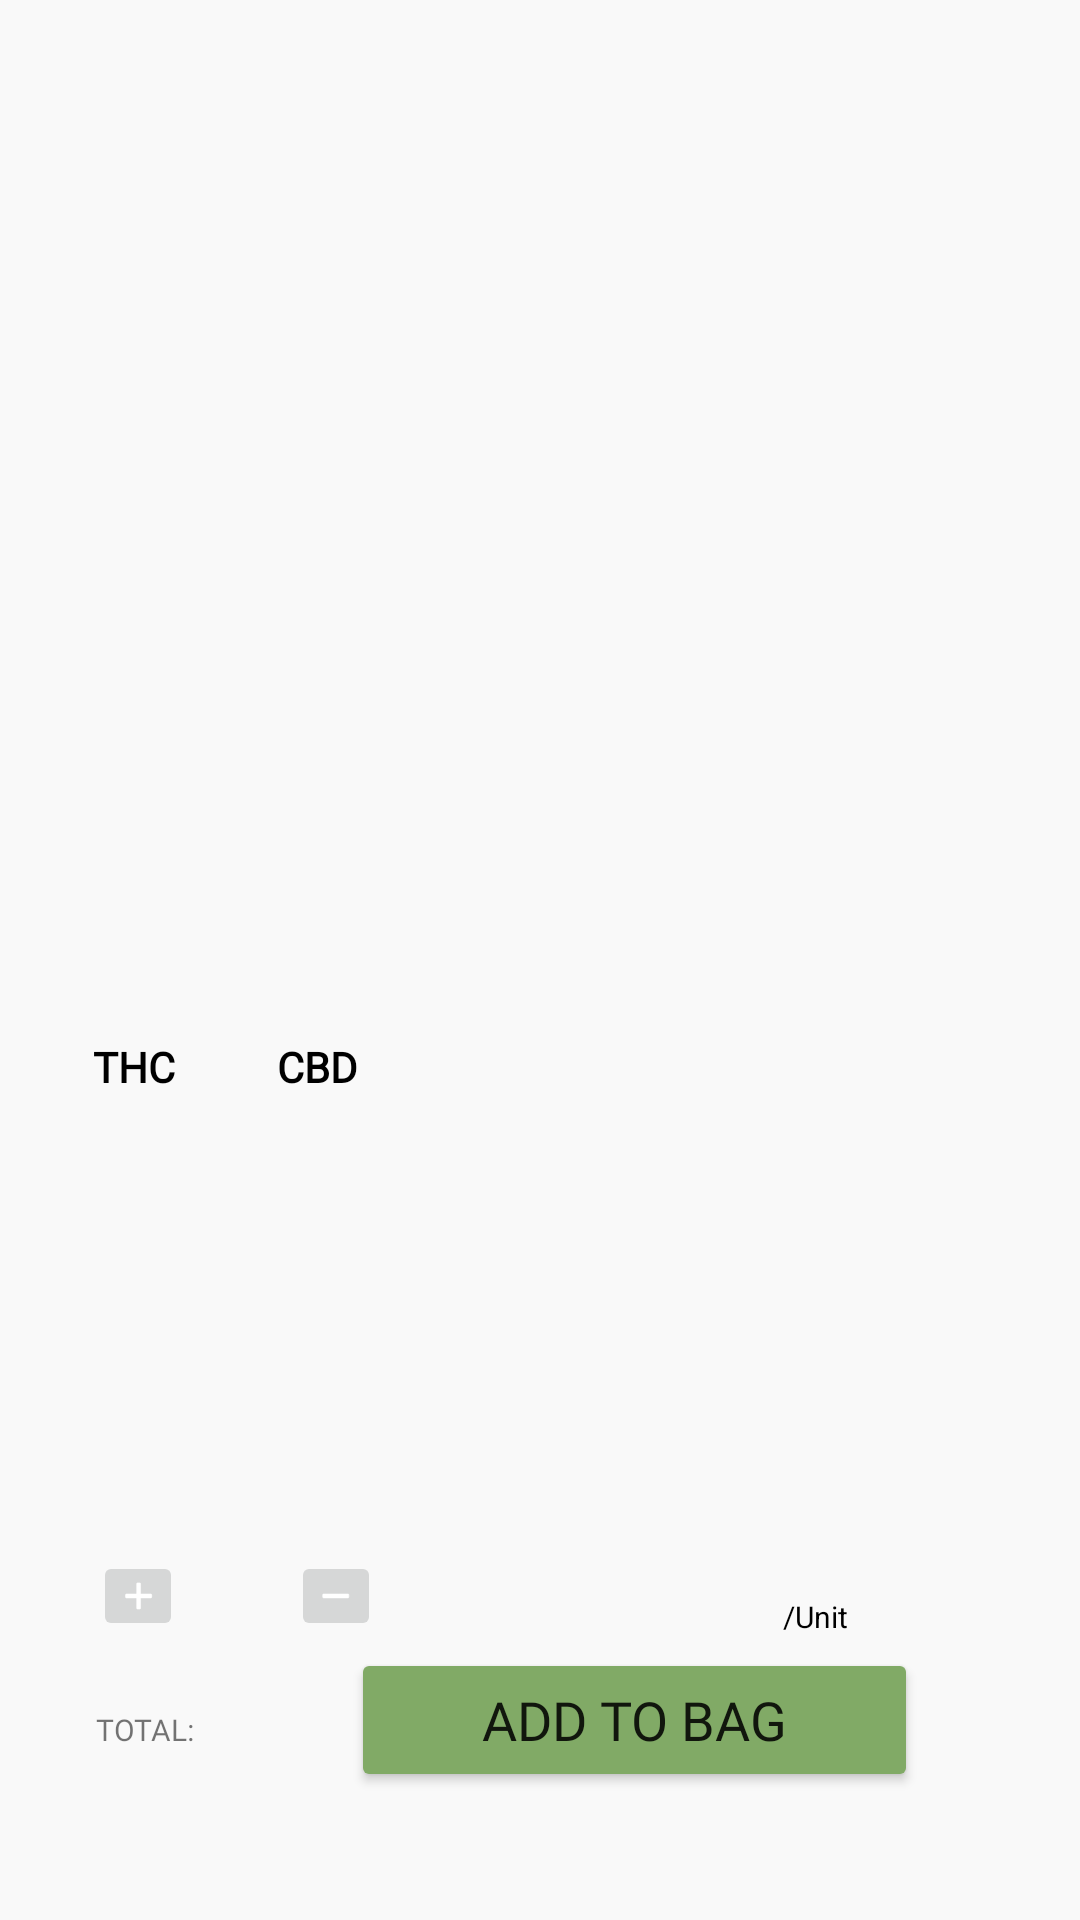

Screen size 1080*1920. Icon name, then its center in pixels as (x,y):
minus: (336,1596)
plus: (138,1596)
